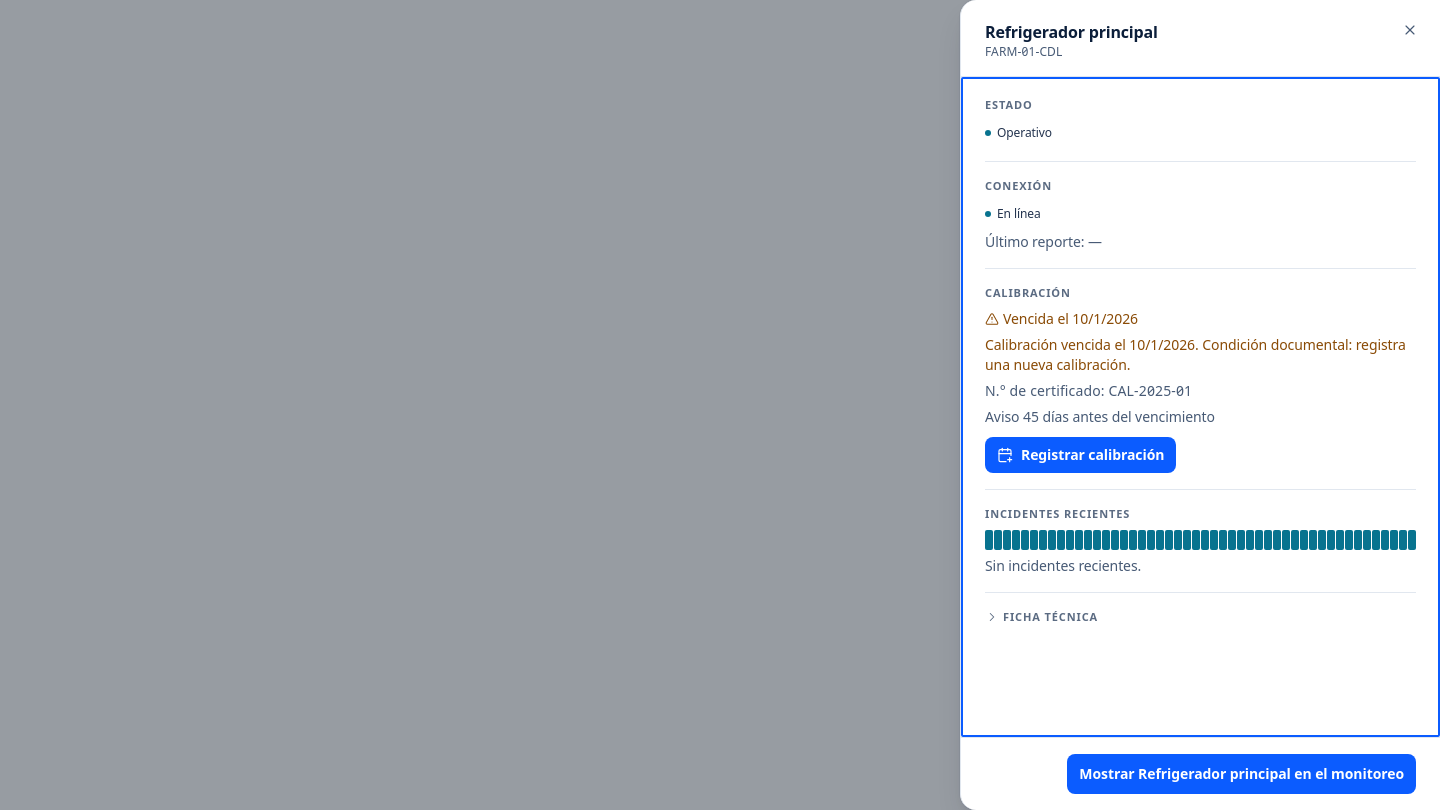
Test: PanelDetalleEquipo — HU-30 calibración (QF) › un 403 se explica como falta de permiso, sin dar por registrada la calibración
Click the button "Registrar calibración" at (1081, 455), box [985,437,1176,473]
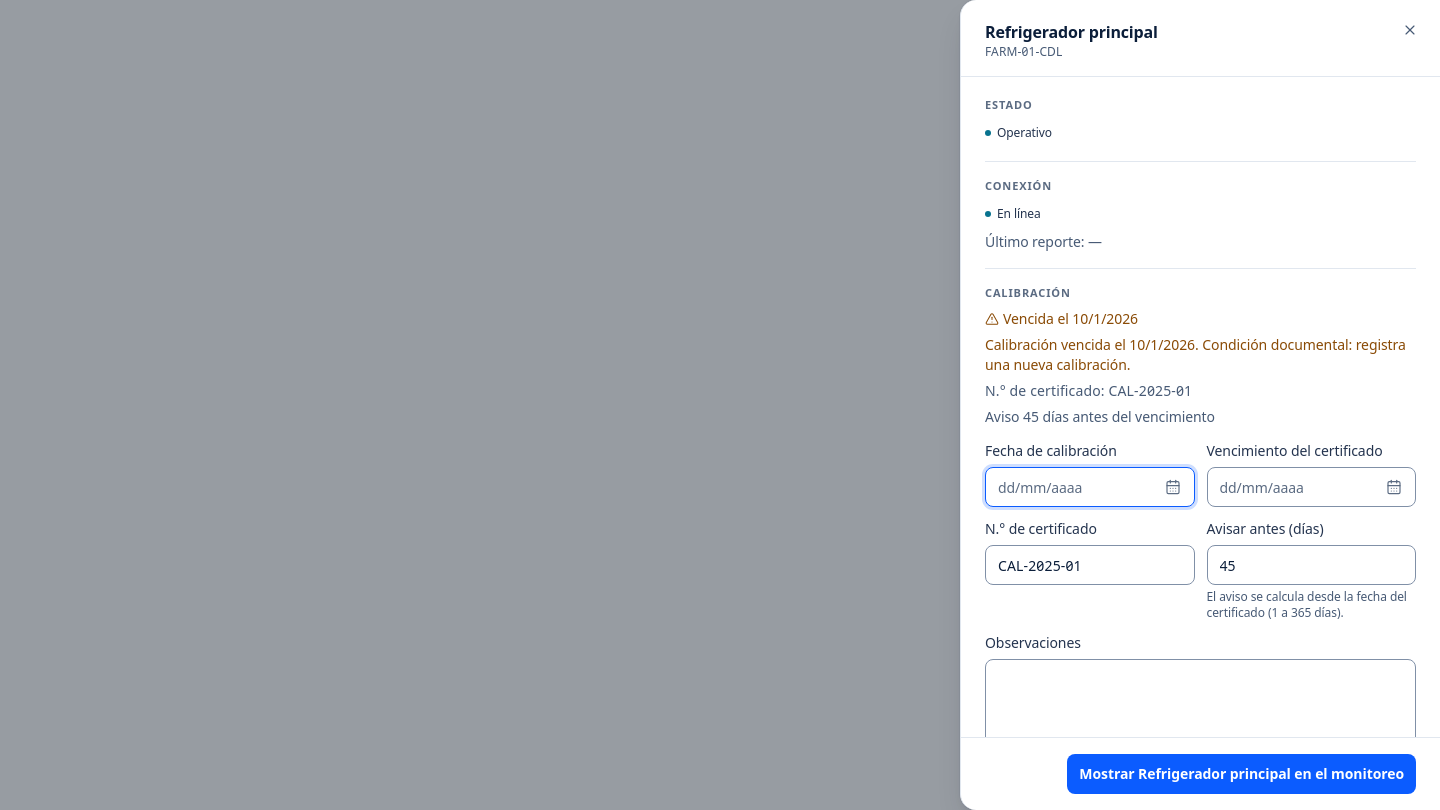
Replace the text in the field labelled "N.° de certificado" with "CAL-2026-QF" at (1090, 565), box [985,545,1194,585]
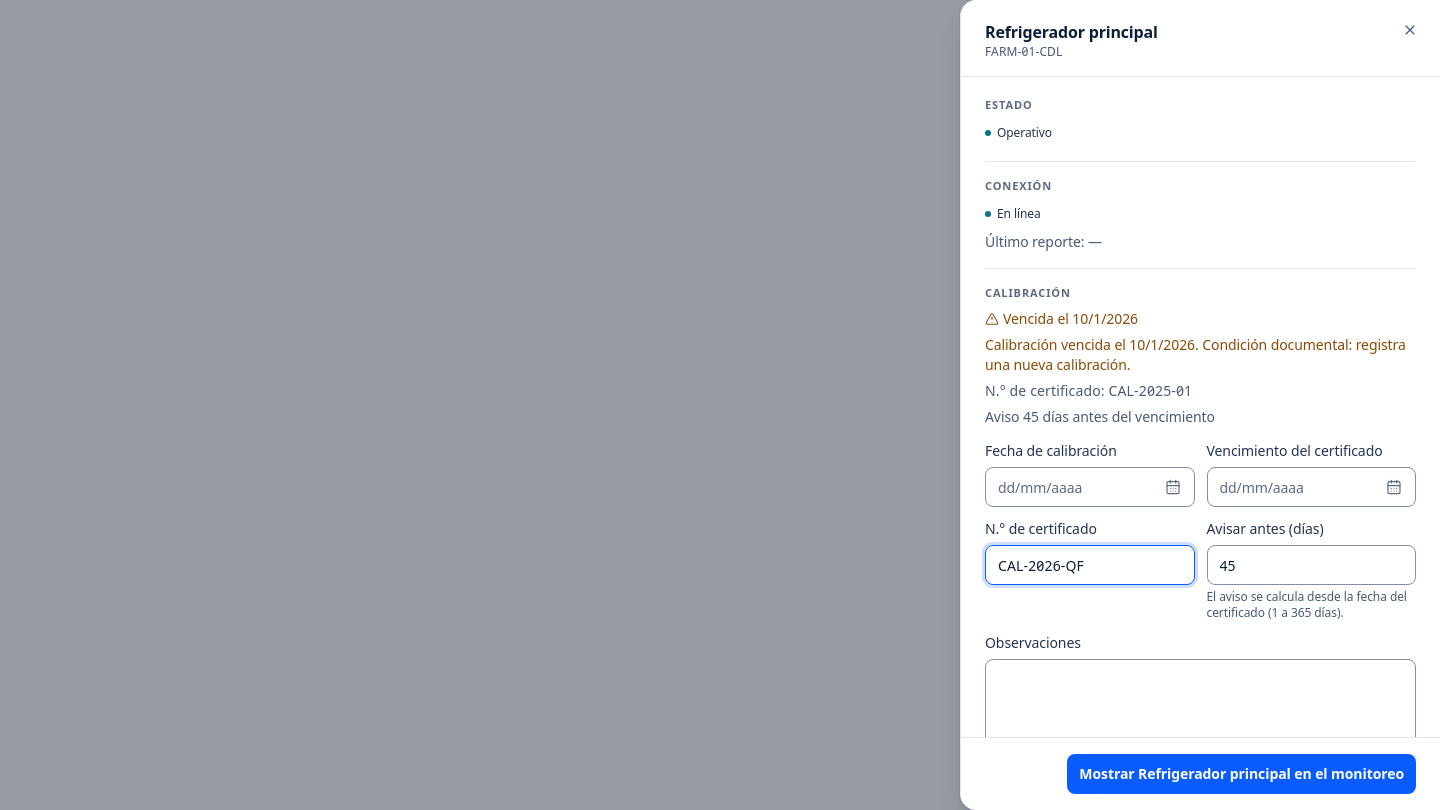
Type "2026-11-10" into the field labelled "Fecha de calibración" at (1090, 487), box [985,467,1194,507]
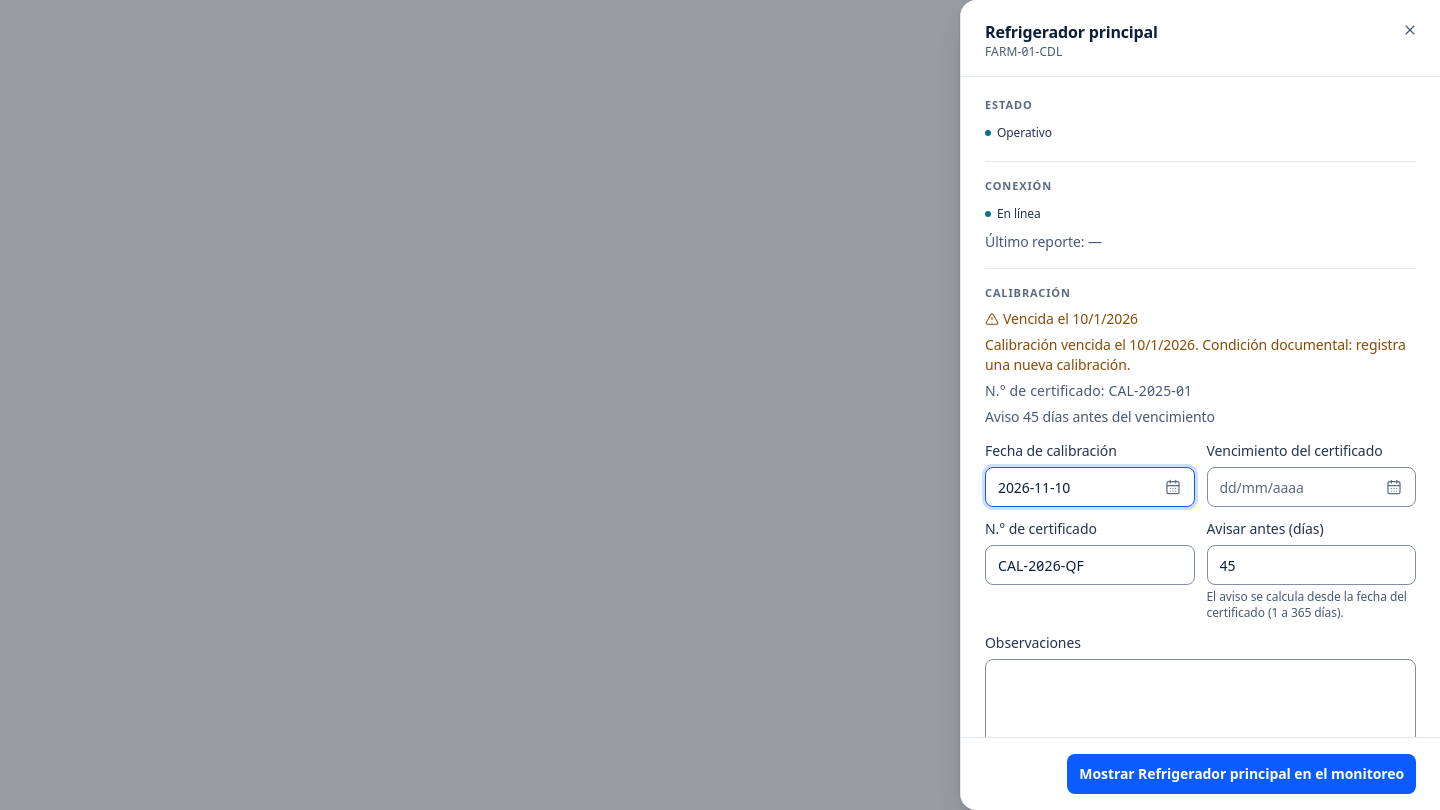
Type "2027-11-10" into the field labelled "Vencimiento del certificado" at (1311, 487), box [1206,467,1416,507]
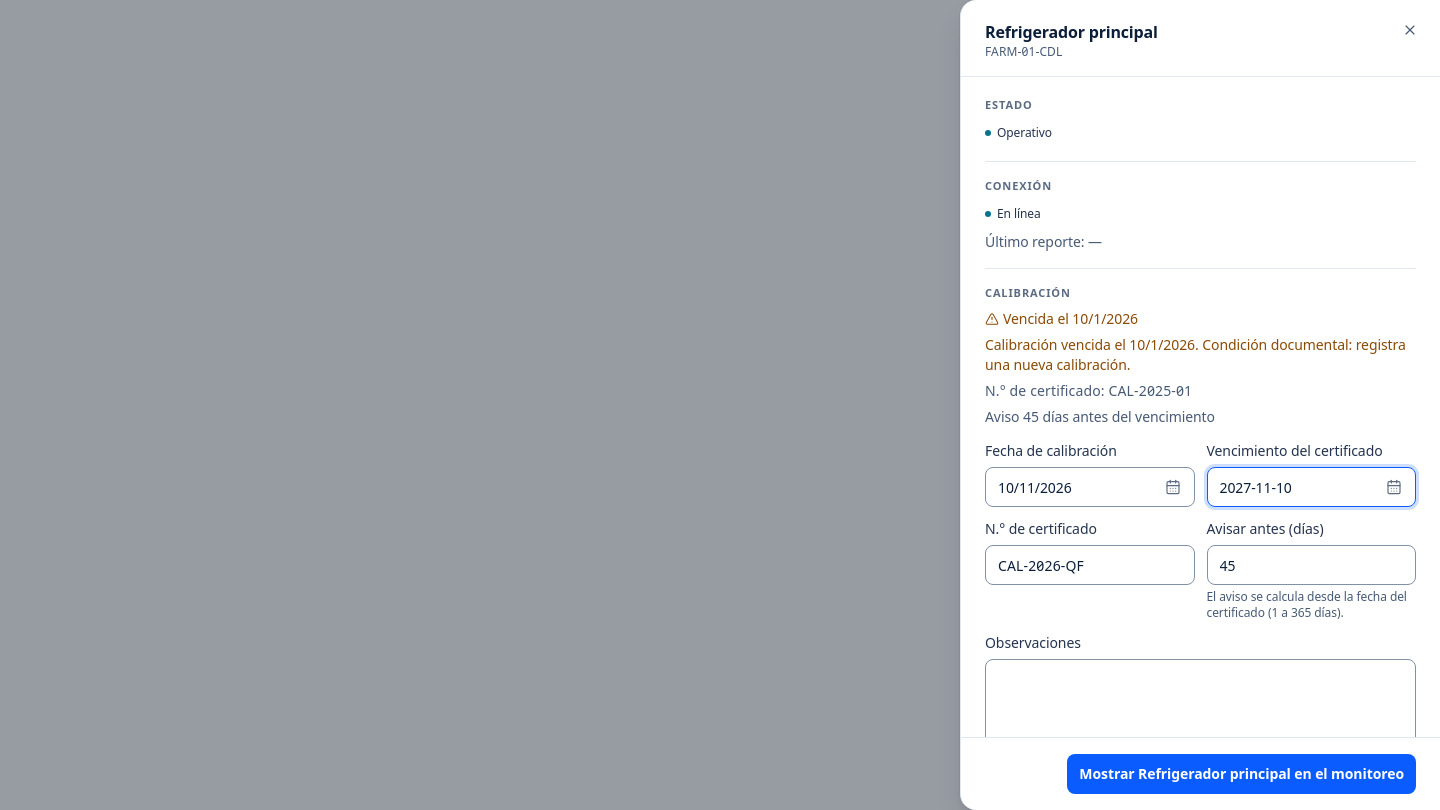
Replace the text in the number field labelled "Avisar antes (días)" with "20" at (1311, 565), box [1206,545,1416,585]
(page scrolled)
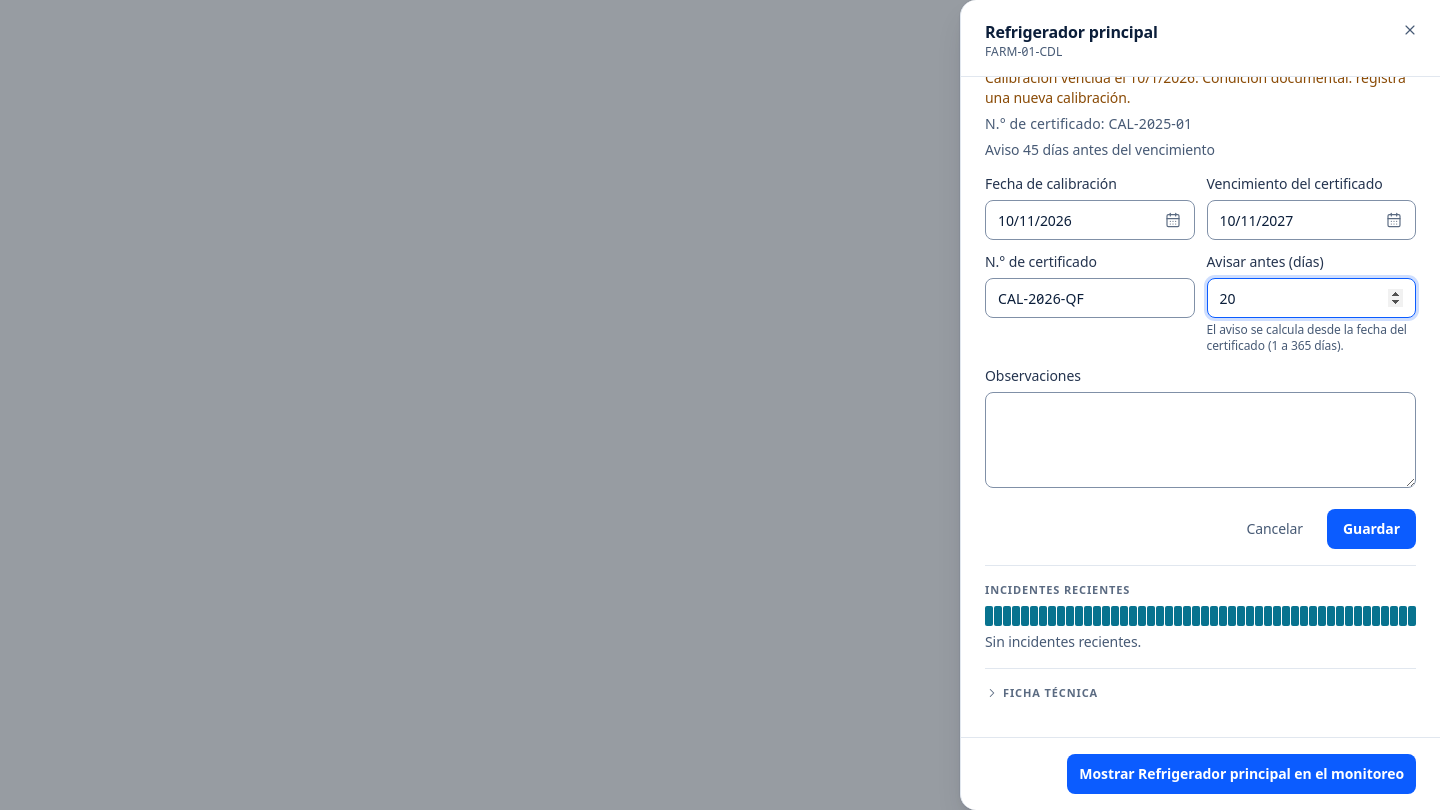
Click the button "Guardar" at (1372, 529), box [1327,509,1416,549]
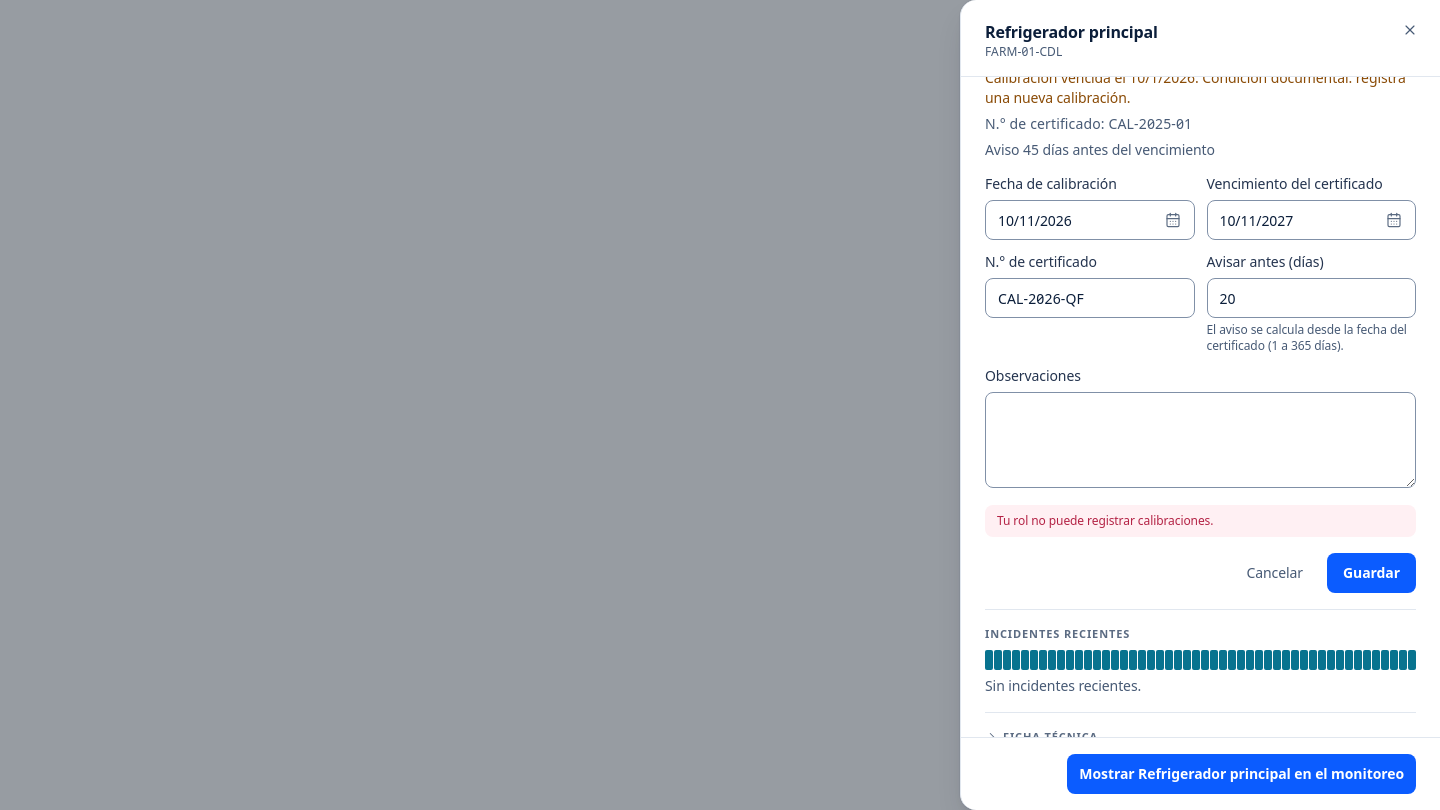
expect the message reads "Tu rol no puede registrar calibraciones.": met, box [997,512,1213,529]
